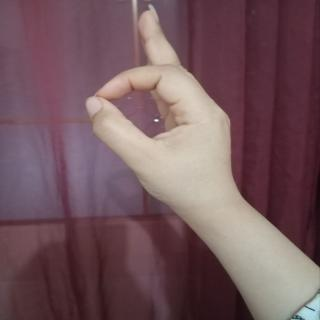Space: (64, 0, 242, 213)
